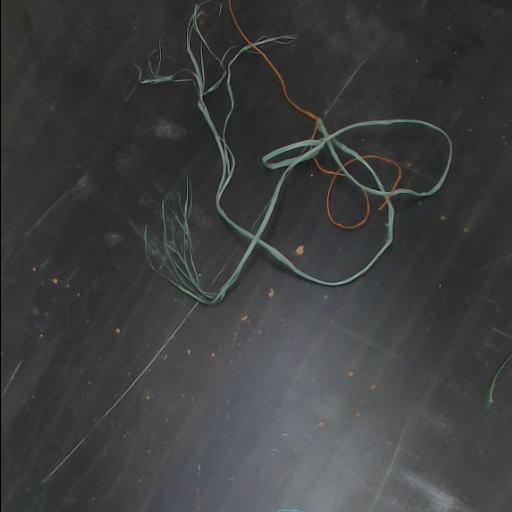conveyor belt: (1, 0, 512, 511), (221, 51, 319, 229), (261, 160, 386, 281), (341, 124, 444, 190), (330, 178, 363, 224)
thread: (164, 0, 451, 303)
